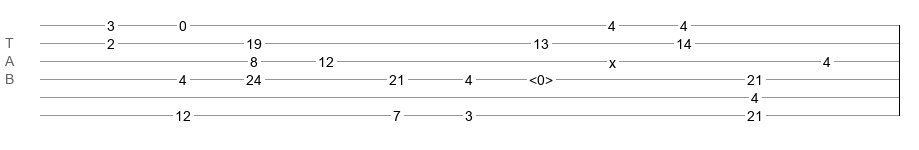0: (179, 18, 187, 28)
12: (175, 108, 191, 118), (318, 54, 334, 64)
13: (533, 36, 549, 46)
14: (676, 36, 692, 46)
19: (246, 36, 262, 46)
2: (107, 36, 115, 46)
21: (389, 72, 405, 82), (747, 72, 763, 82), (747, 108, 763, 118)
24: (246, 72, 262, 82)
3: (107, 18, 115, 28), (465, 108, 473, 118)
4: (179, 72, 187, 82), (465, 72, 473, 82), (608, 18, 616, 28), (680, 18, 688, 28), (751, 90, 759, 100), (823, 54, 831, 64)
7: (393, 108, 401, 118)
8: (250, 54, 258, 64)
harmonic: (529, 72, 553, 82)
x: (609, 55, 616, 63)
